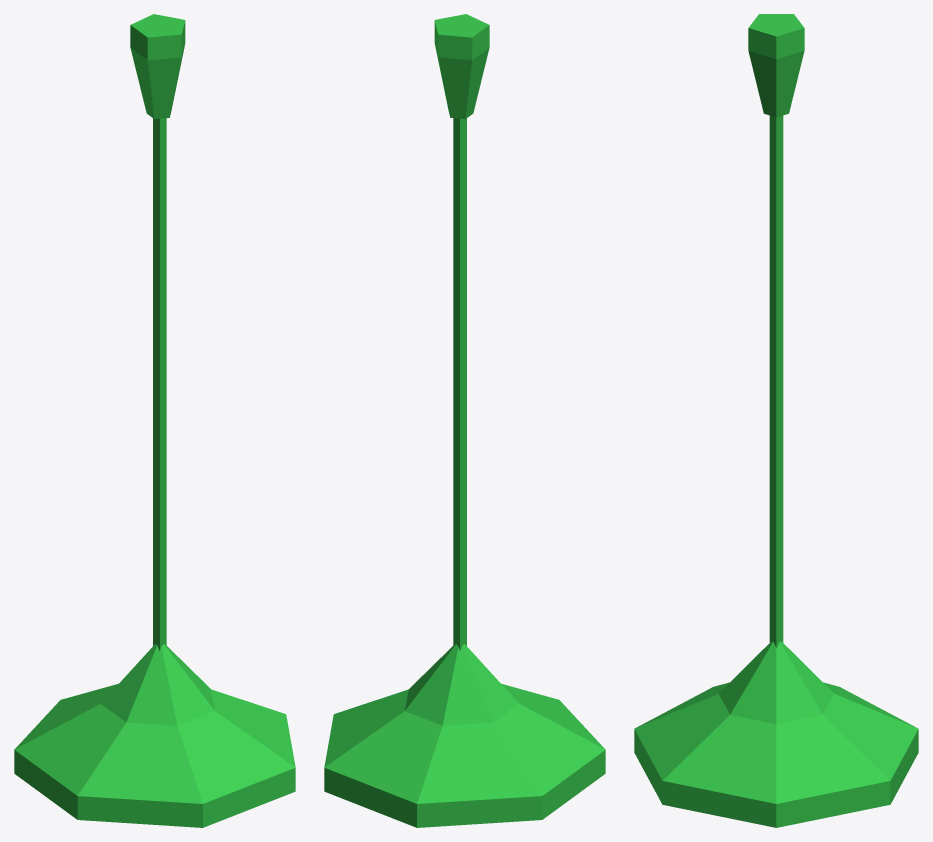
File: SM_pendant_lamp.fbx
3 views of the same model, side by side, from view 1: azimuth 30°, elevation 25°; view 2: azimuth 150°, elevation 25°; view 3: azimuth 270°, elevation 25° (orthographic).
Parts seen in each view (by area): view 1: pendant_lamp; view 2: pendant_lamp; view 3: pendant_lamp.
Boxes of the visible parts, bbox=[...] form: pendant_lamp: bbox=[14, 14, 295, 827]; pendant_lamp: bbox=[324, 14, 605, 827]; pendant_lamp: bbox=[634, 14, 918, 827].
Size of the model in its own units: 44.97 by 137 by 46.12.
